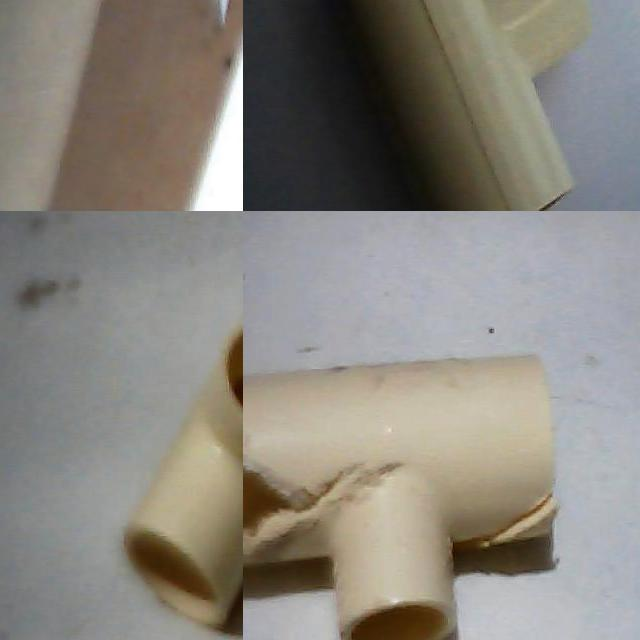Defective: (243, 427, 327, 570), (466, 490, 575, 568)
T Joint: (243, 358, 556, 640), (341, 0, 592, 211), (121, 310, 243, 626)
